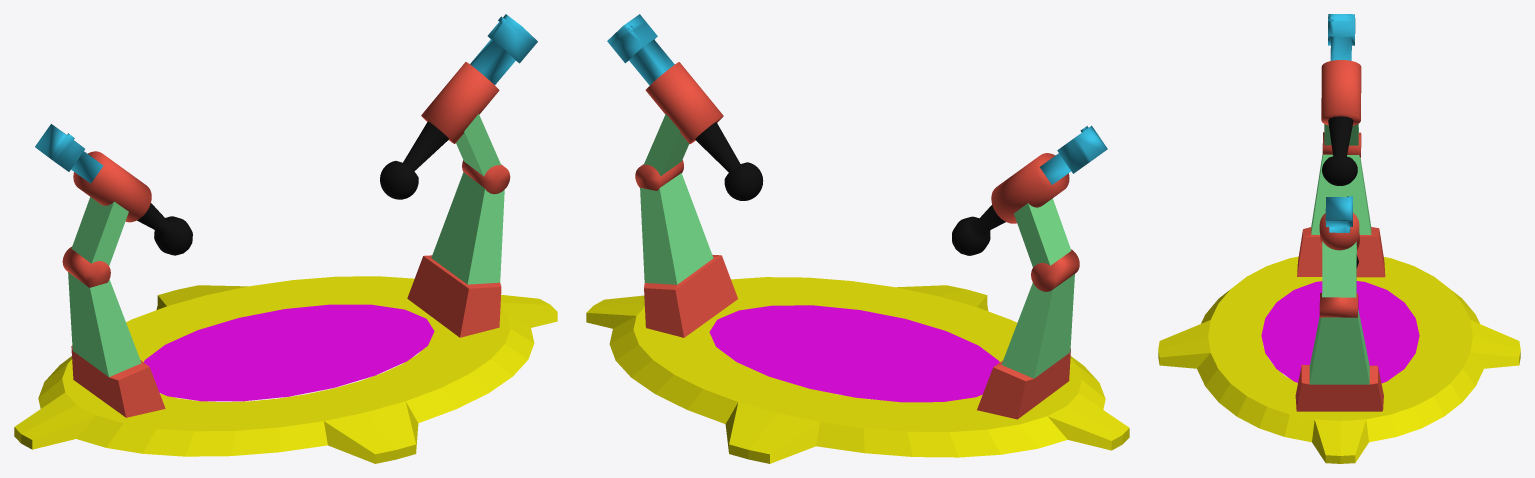
File: ColorSwapRework2.fbx
3 renders of one model, left to right at view 1: azimuth 30°, elevation 25°; view 2: azimuth 150°, elevation 25°; view 3: azimuth 270°, elevation 25°, orthographic. The views are drawn at different scales.
Visible parts, largest first — view 1: Plaque, Bras 1.001, Bras 1; view 2: Plaque, Bras 1.001, Bras 1; view 3: Plaque, Bras 1.001, Bras 1.
Boxes of the visible parts, box(x1,y1,x2,y2) form: Plaque: box(14, 276, 557, 463); Bras 1.001: box(380, 14, 537, 337); Bras 1: box(35, 124, 192, 417); Plaque: box(586, 277, 1129, 463); Bras 1.001: box(607, 14, 763, 337); Bras 1: box(952, 125, 1107, 419); Plaque: box(1158, 256, 1520, 463); Bras 1.001: box(1295, 196, 1383, 411); Bras 1: box(1297, 14, 1385, 277).
Bounding box in the file's own units: 844 × 463 × 605.
